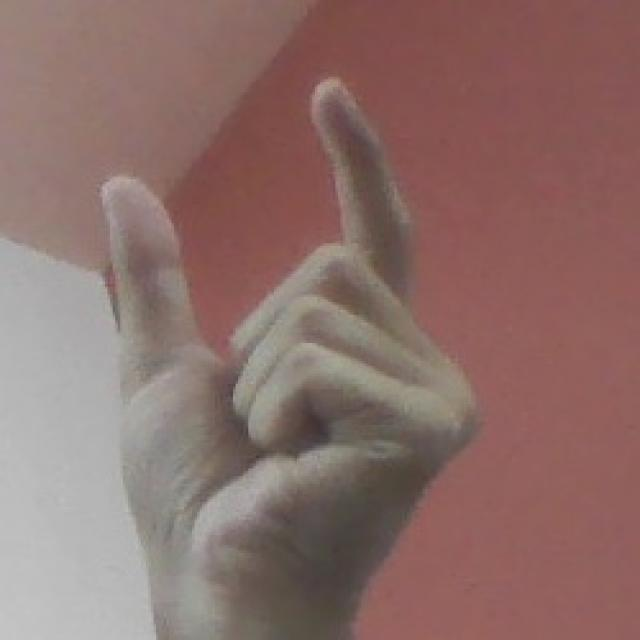Alphabet-U: (65, 57, 481, 623)
